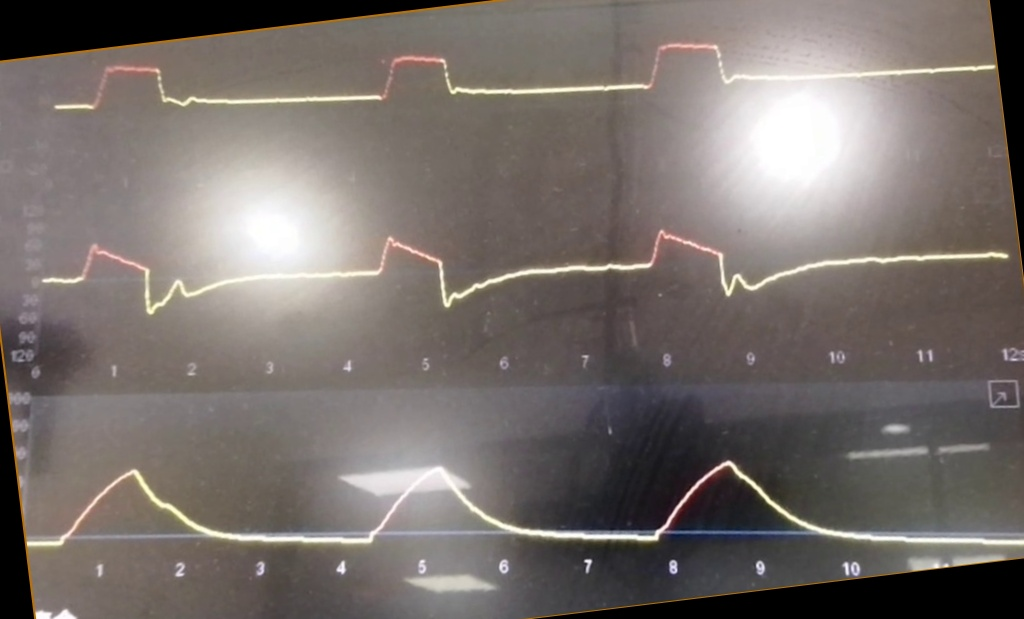Premature_cycling Flow: (44, 217, 1009, 311)
Premature_cycling Volume: (33, 458, 999, 557)
